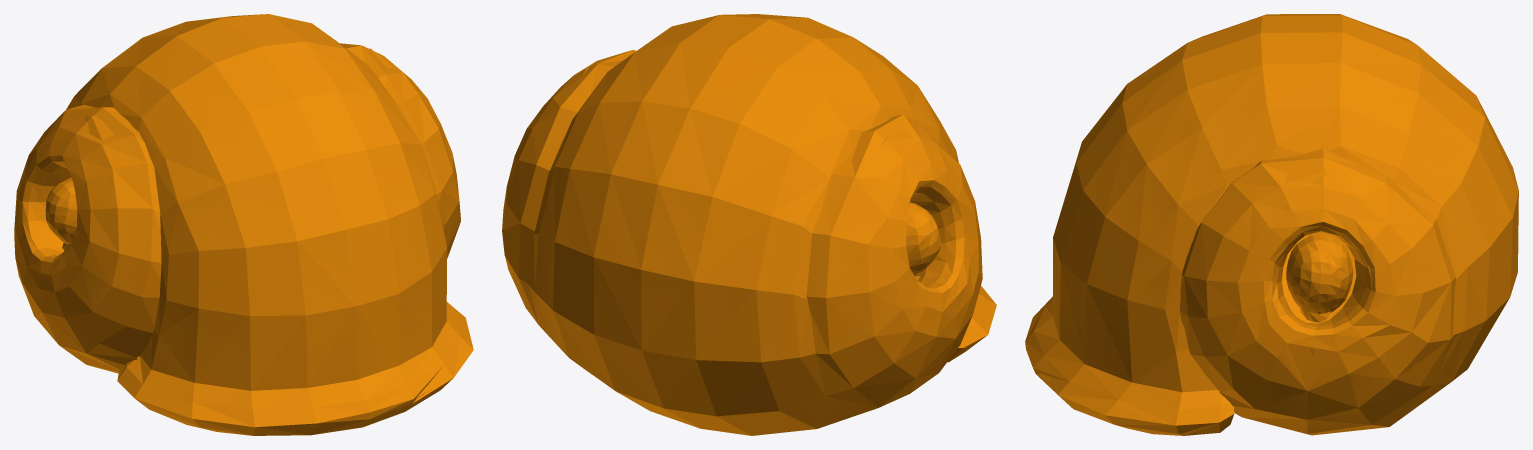
Rendered from SeaShell_Static_Unity.fbx.
3 views of the same model, side by side, from view 1: azimuth 30°, elevation 25°; view 2: azimuth 150°, elevation 25°; view 3: azimuth 270°, elevation 25° (orthographic). The views are drawn at different scales.
Parts seen in each view (by area): view 1: SeaShell; view 2: SeaShell; view 3: SeaShell.
Part boxes in pixels (left/top/right/bottom): SeaShell: left=14, top=14, right=473, bottom=435; SeaShell: left=502, top=14, right=996, bottom=435; SeaShell: left=1025, top=14, right=1518, bottom=435.
Size of the model in its own units: 0.6 by 0.5016 by 0.6.
